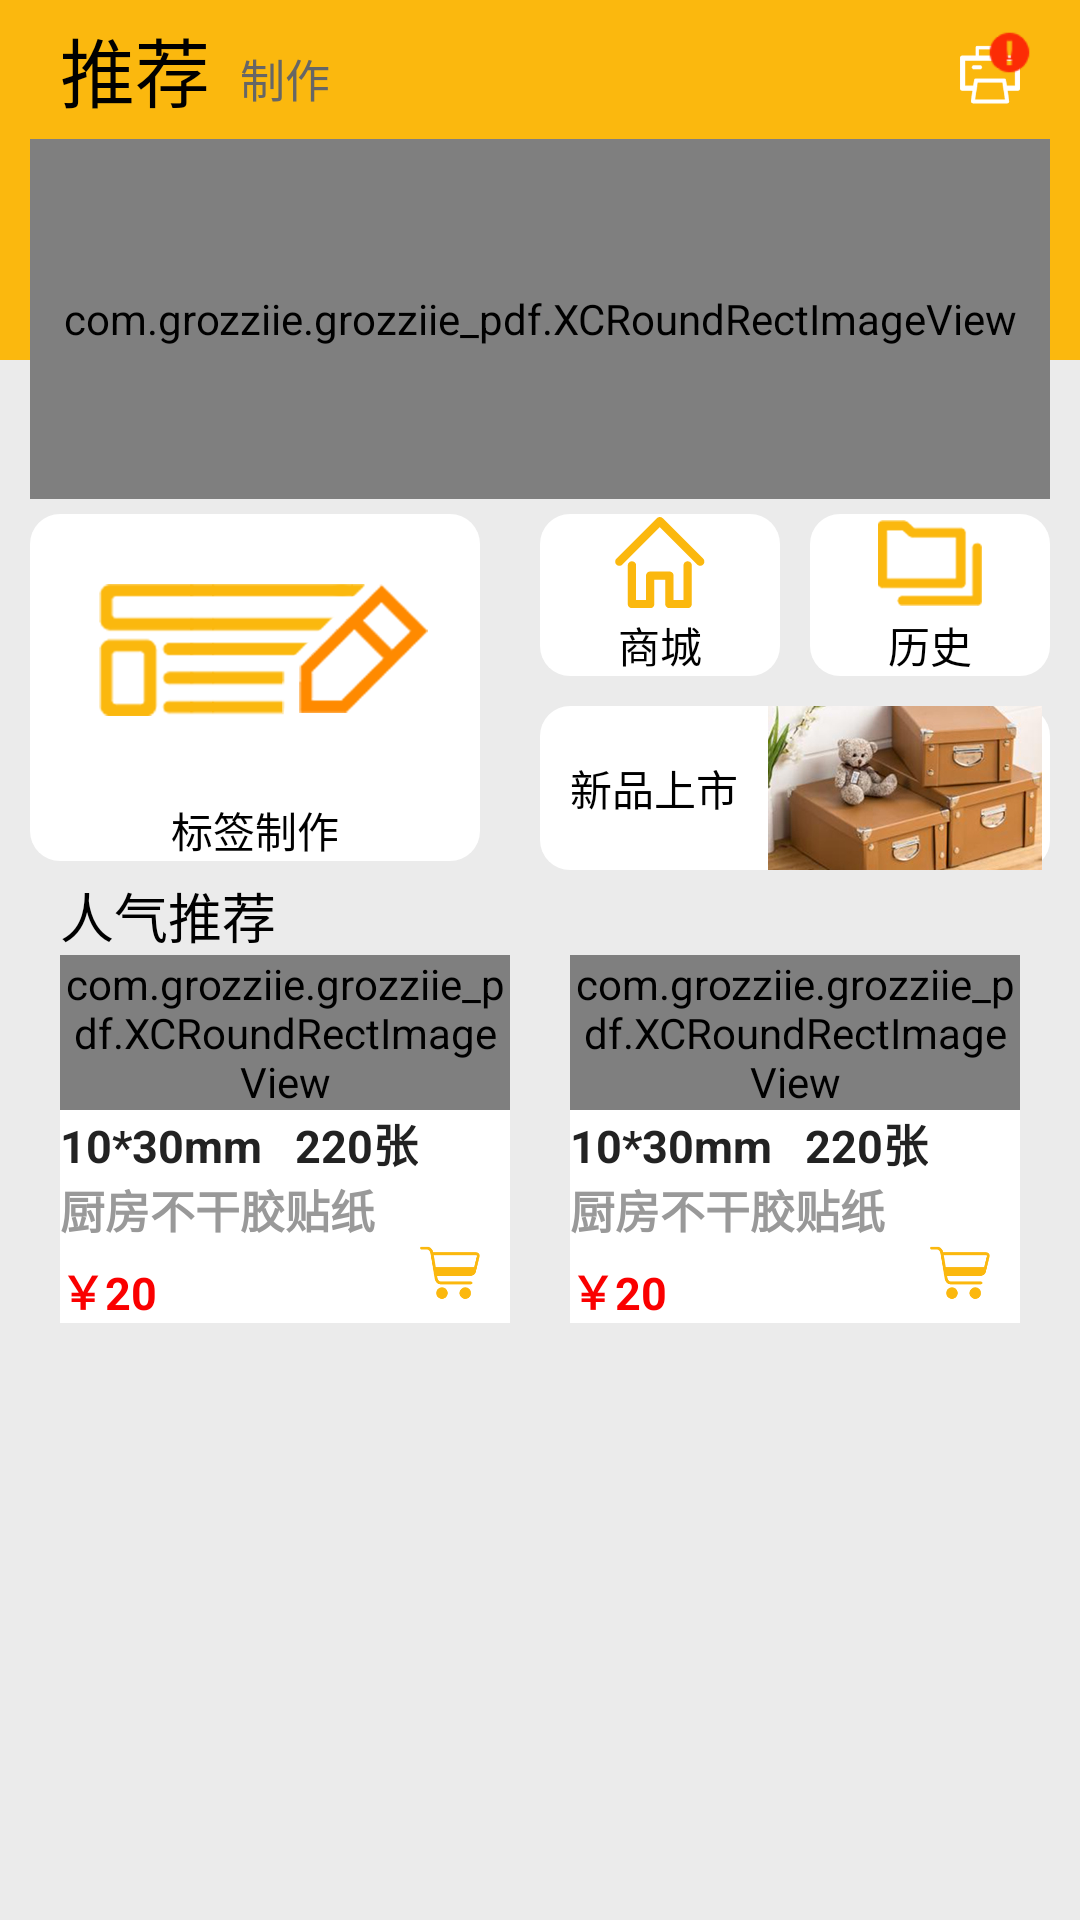

Screen size 1080*1920. Icon name, then its center in pixels as point (x, y):
goodscar: point (450, 1272), point (960, 1272)
zgdevicestate: point (1008, 53)
zgmakebarcode: point (263, 650)
zgprint: point (990, 74)
